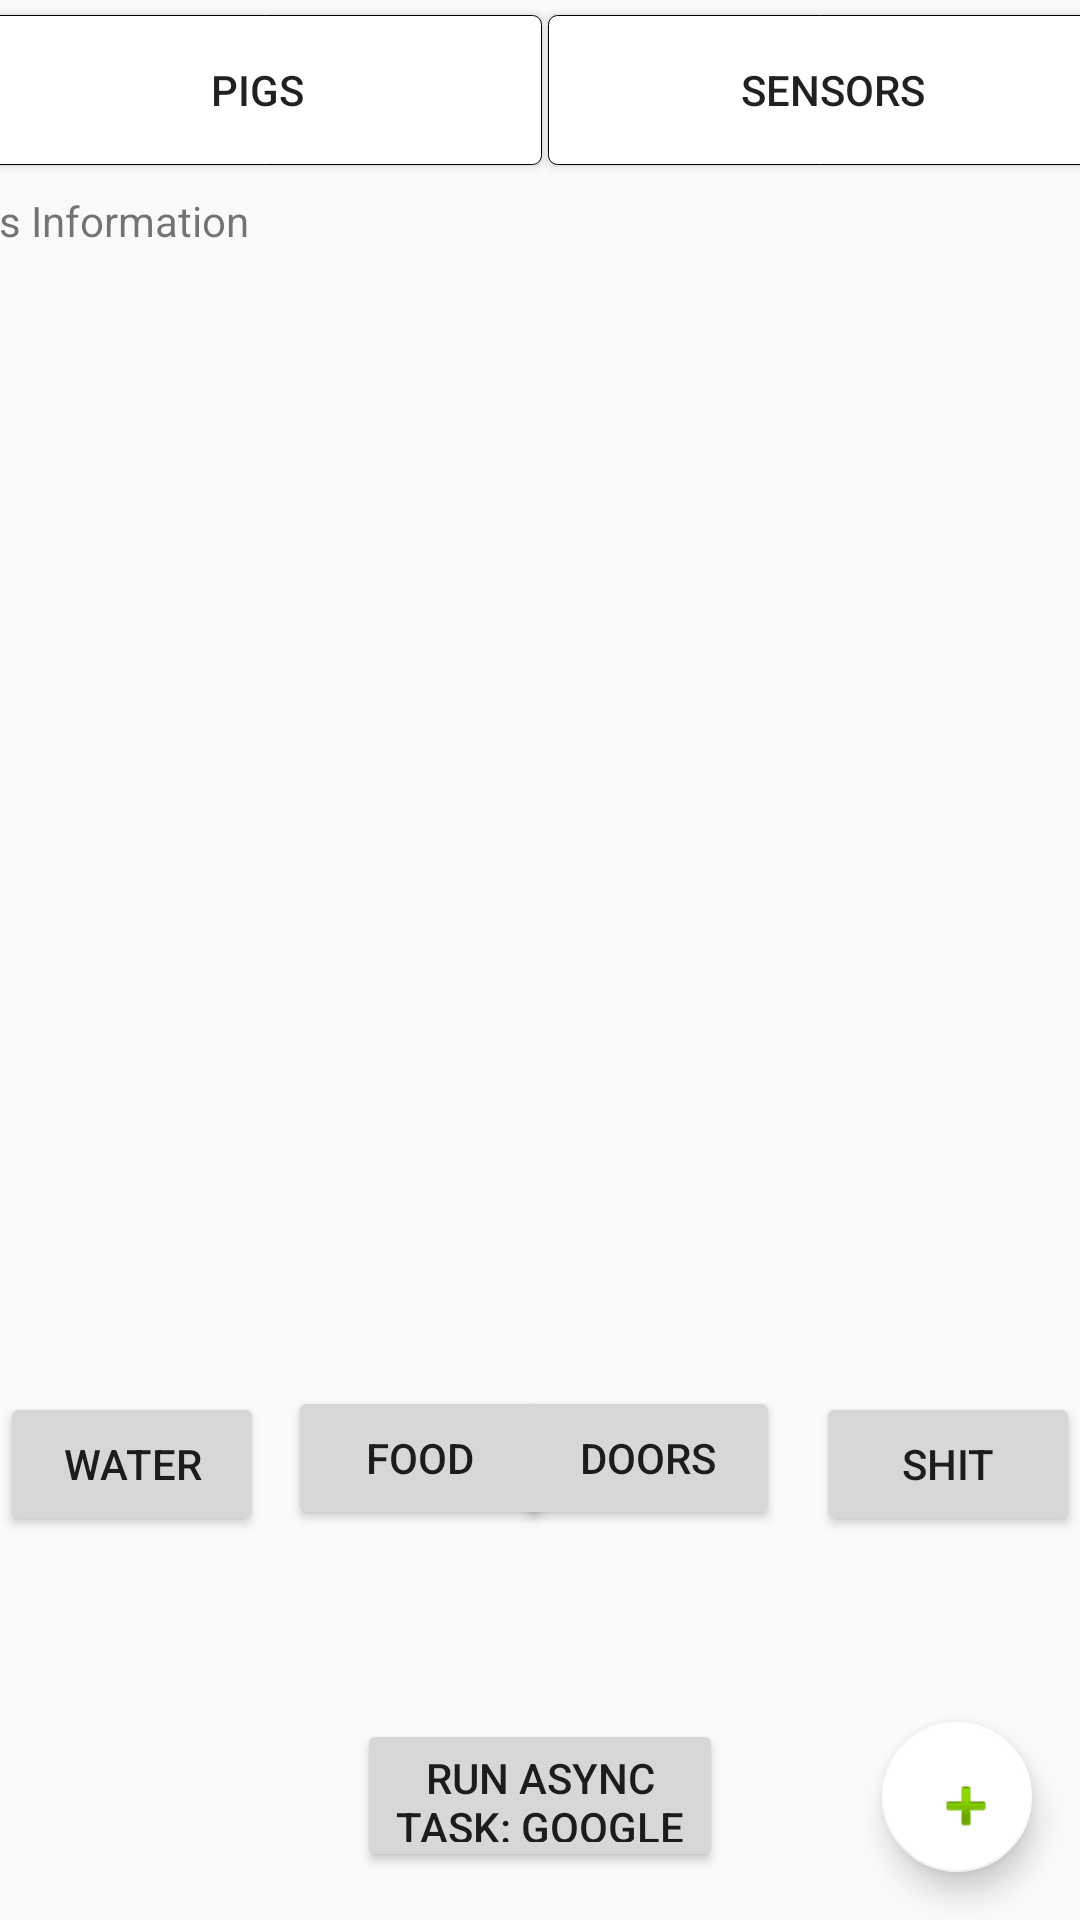

Icon click points for this 1080 x 1920 phone screenshot, format (x,y):
add: (960,1829)
